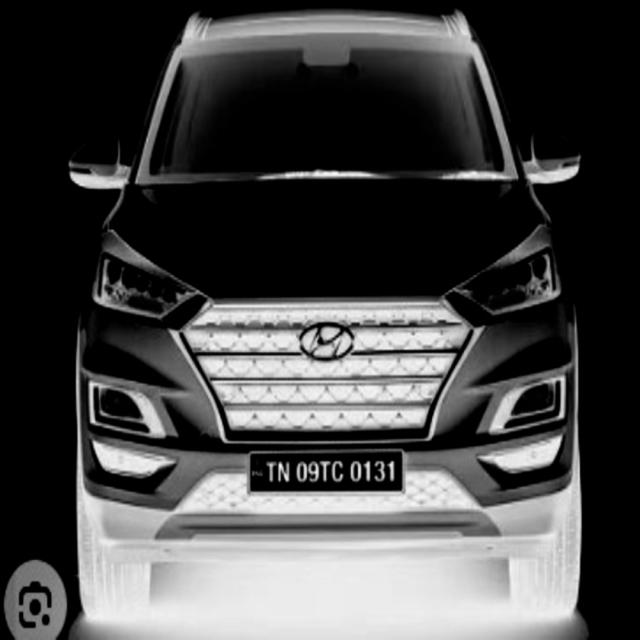0: (295, 460, 307, 485), (350, 459, 362, 484)
1: (385, 457, 397, 485), (364, 460, 373, 482)
3: (374, 460, 386, 484)
9: (307, 461, 320, 487)
C: (331, 460, 346, 484)
IND: (249, 455, 265, 484)
Indian_registered: (250, 450, 402, 491)
N: (278, 459, 292, 486)
T: (320, 458, 331, 486), (266, 459, 276, 485)
